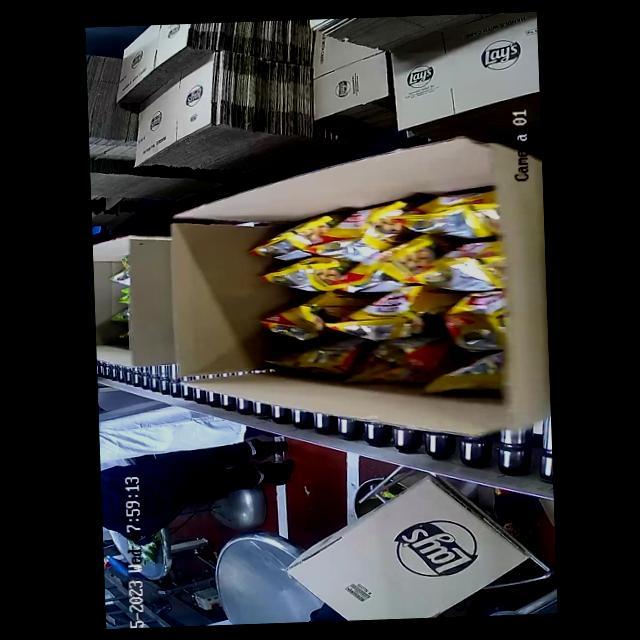salted: (244, 185, 508, 398)
